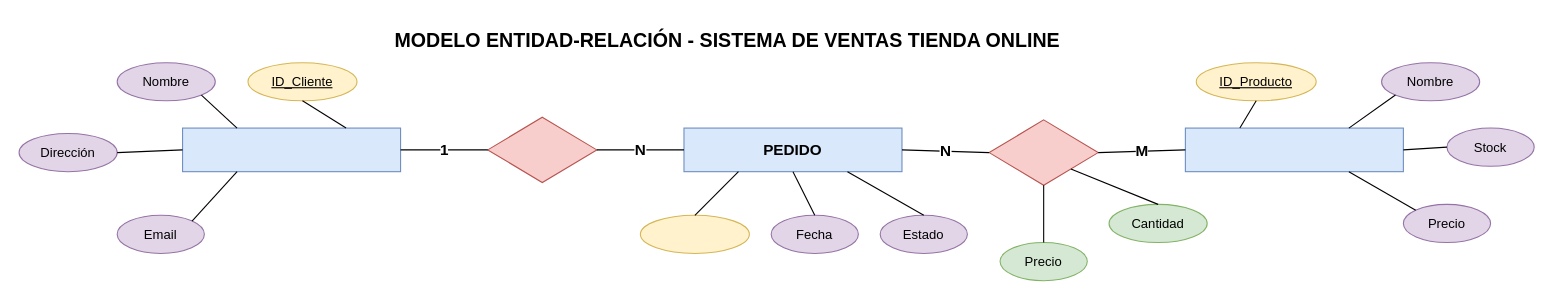
Image size: 1553x300. Some labels were removed from this diagram. The shapes that lost their labels are listed below. From the top down, each one's box as (x1, y1, x2, y2) in pixels, then its label:
(181, 127, 401, 172): CLIENTE
(487, 116, 597, 183): realiza
(988, 119, 1098, 185): contiene
(1184, 127, 1403, 172): PRODUCTO
(639, 214, 749, 253): ID_Pedido
